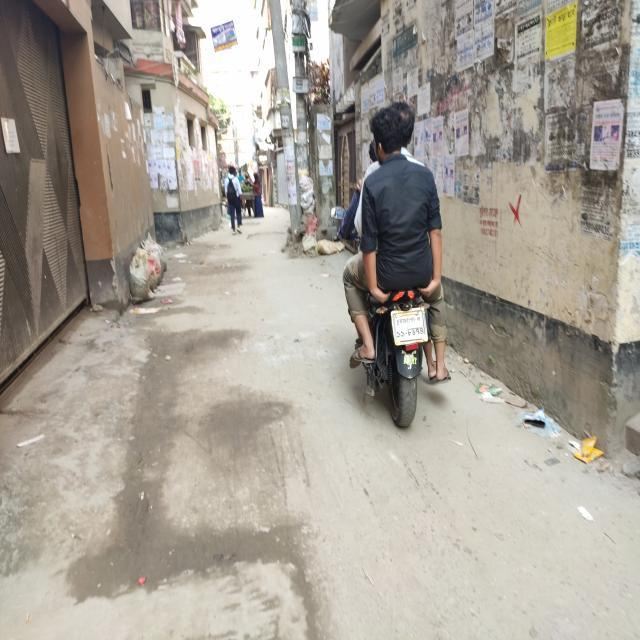Overloading: (300, 74, 508, 457), (256, 136, 272, 164)
